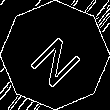N_NE: (23, 23, 87, 87)
